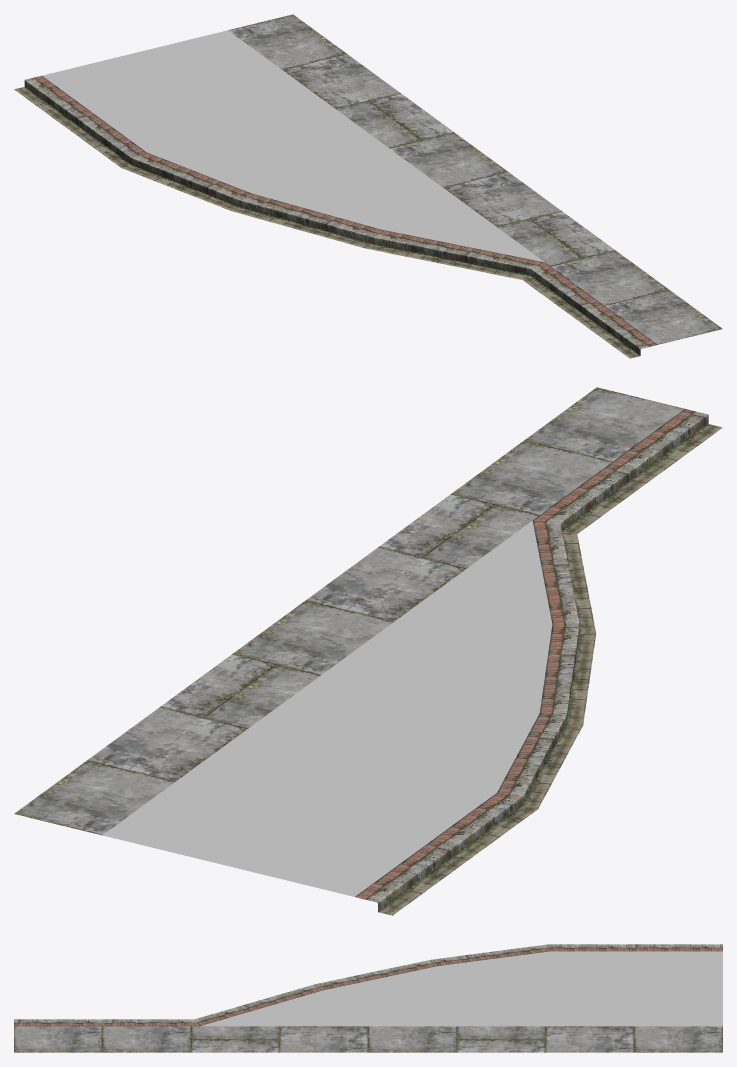
The model's file is Road-TransitionSidewalkBrick.fbx.
The picture shows the model from 3 angles, top to bottom: view 1: azimuth 30°, elevation 25°; view 2: azimuth 150°, elevation 25°; view 3: azimuth 270°, elevation 25°; orthographic projection. The views are drawn at different scales.
Parts seen in each view (by area): view 1: Road-TransitionSidewalkBrick; view 2: Road-TransitionSidewalkBrick; view 3: Road-TransitionSidewalkBrick.
Boxes of the visible parts, x1=… form: Road-TransitionSidewalkBrick: x1=14, y1=14, x2=722, y2=358; Road-TransitionSidewalkBrick: x1=14, y1=387, x2=722, y2=915; Road-TransitionSidewalkBrick: x1=14, y1=944, x2=722, y2=1052.
Bounding box in the file's own units: 1050 × 25 × 2800.
